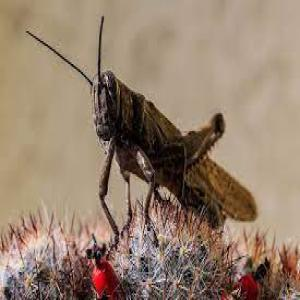locust: (63, 32, 262, 245)
